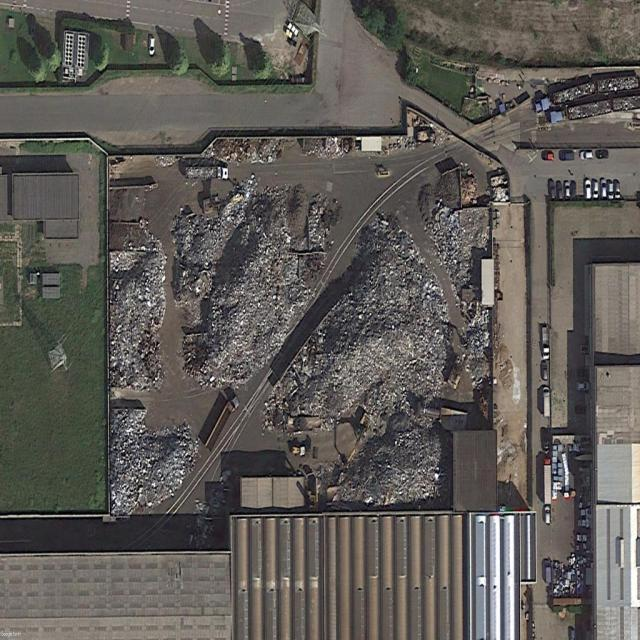dump_site: (259, 204, 450, 497), (171, 182, 351, 391), (372, 306, 468, 449), (319, 422, 450, 511), (110, 407, 197, 514), (110, 251, 167, 390), (426, 205, 481, 301), (463, 307, 492, 360), (567, 99, 612, 122), (553, 82, 596, 105), (598, 76, 640, 93), (613, 95, 640, 112)
